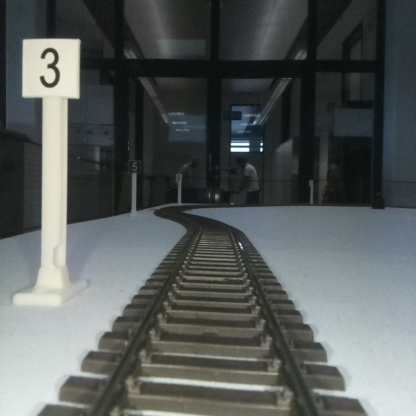black-info-5: (128, 160, 141, 216)
white-info-3: (22, 39, 79, 304)
